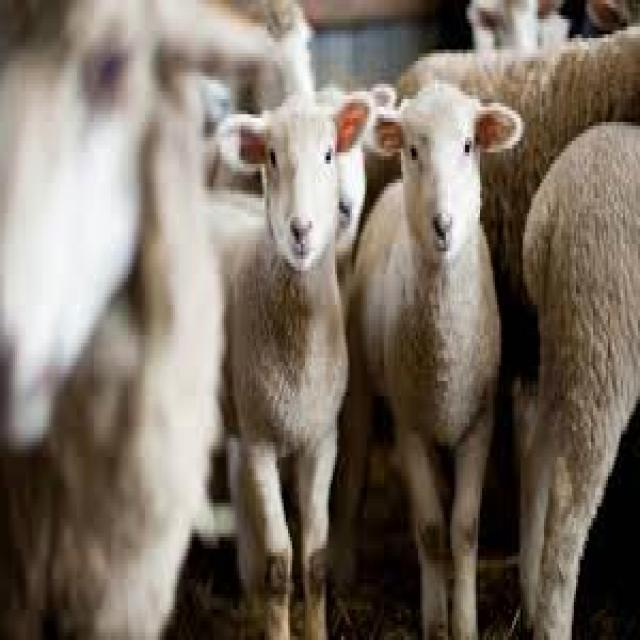sheep: (2, 0, 282, 636), (337, 80, 523, 636), (224, 91, 373, 636), (399, 27, 640, 297), (516, 122, 640, 636)
